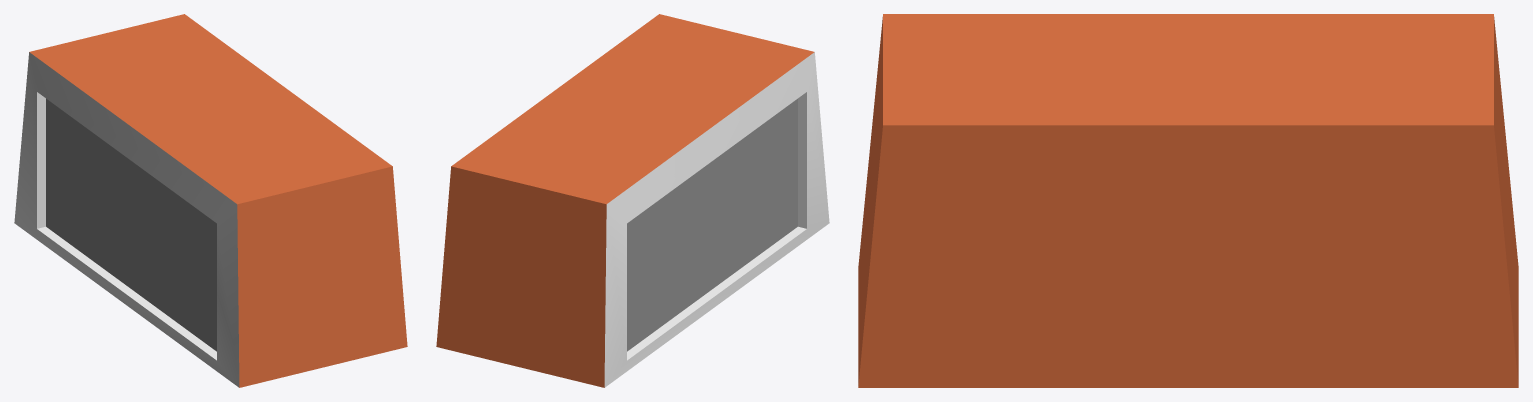
File: Machine_1.fbx
The picture shows the model from 3 angles, left to right: view 1: azimuth 30°, elevation 25°; view 2: azimuth 150°, elevation 25°; view 3: azimuth 270°, elevation 25°; orthographic projection. The views are drawn at different scales.
Parts seen in each view (by area): view 1: Machine_1; view 2: Machine_1; view 3: Machine_1.
Part boxes in pixels (left/top/right/bottom): Machine_1: left=14, top=14, right=407, bottom=387; Machine_1: left=436, top=14, right=829, bottom=387; Machine_1: left=858, top=14, right=1518, bottom=387.
Bounding box in the file's own units: 200 × 200 × 464.
